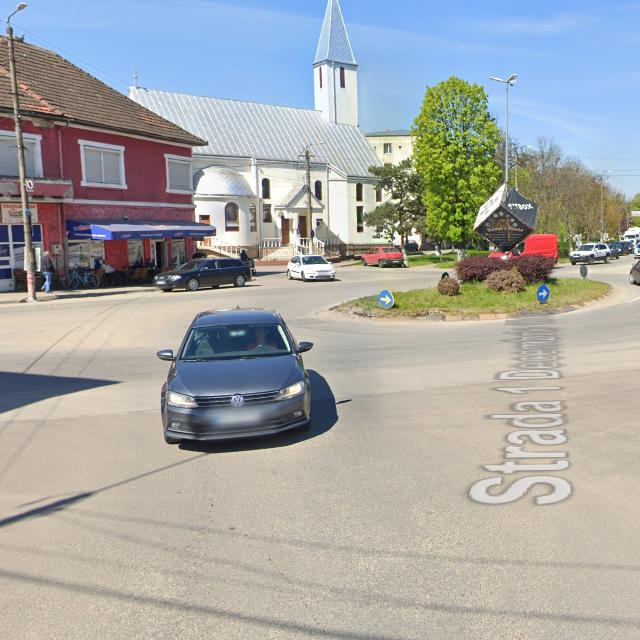mand_pass_right: (378, 290, 395, 308), (536, 284, 550, 302)
